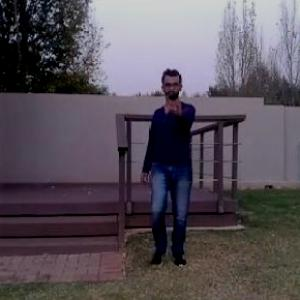takeoff-hand: (164, 89, 192, 120)
